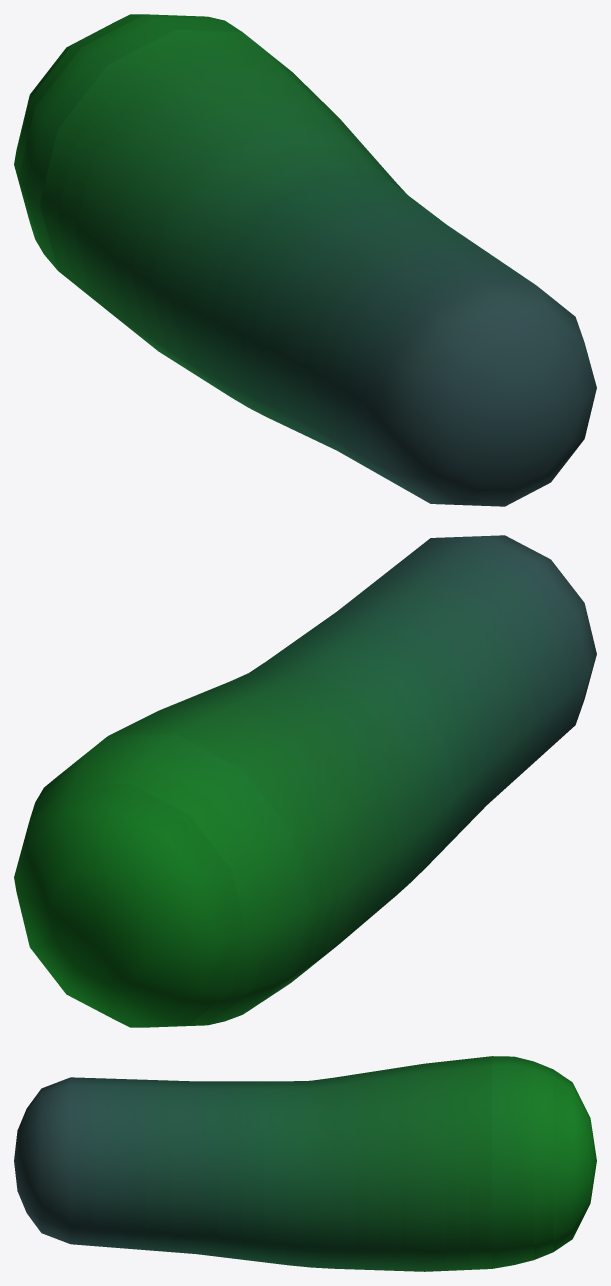
Rendered from Cucumber.fbx.
3 views of the same model, one above another, from view 1: azimuth 30°, elevation 25°; view 2: azimuth 150°, elevation 25°; view 3: azimuth 270°, elevation 25° (orthographic). The views are drawn at different scales.
Visible parts, largest first — view 1: polySurface110; view 2: polySurface110; view 3: polySurface110.
Boxes of the visible parts, x1,y1,x2,y2 form: polySurface110: [14, 14, 596, 506]; polySurface110: [14, 535, 596, 1027]; polySurface110: [14, 1056, 596, 1271].
Bounding box in the file's own units: 98.5 × 100 × 269.
